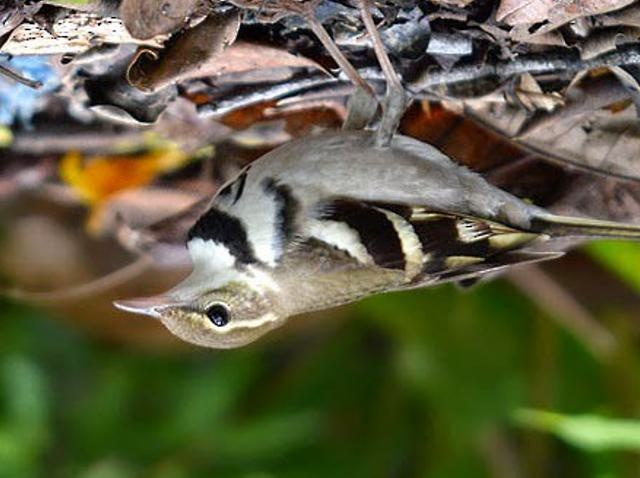wagtail: (135, 79, 553, 361)
